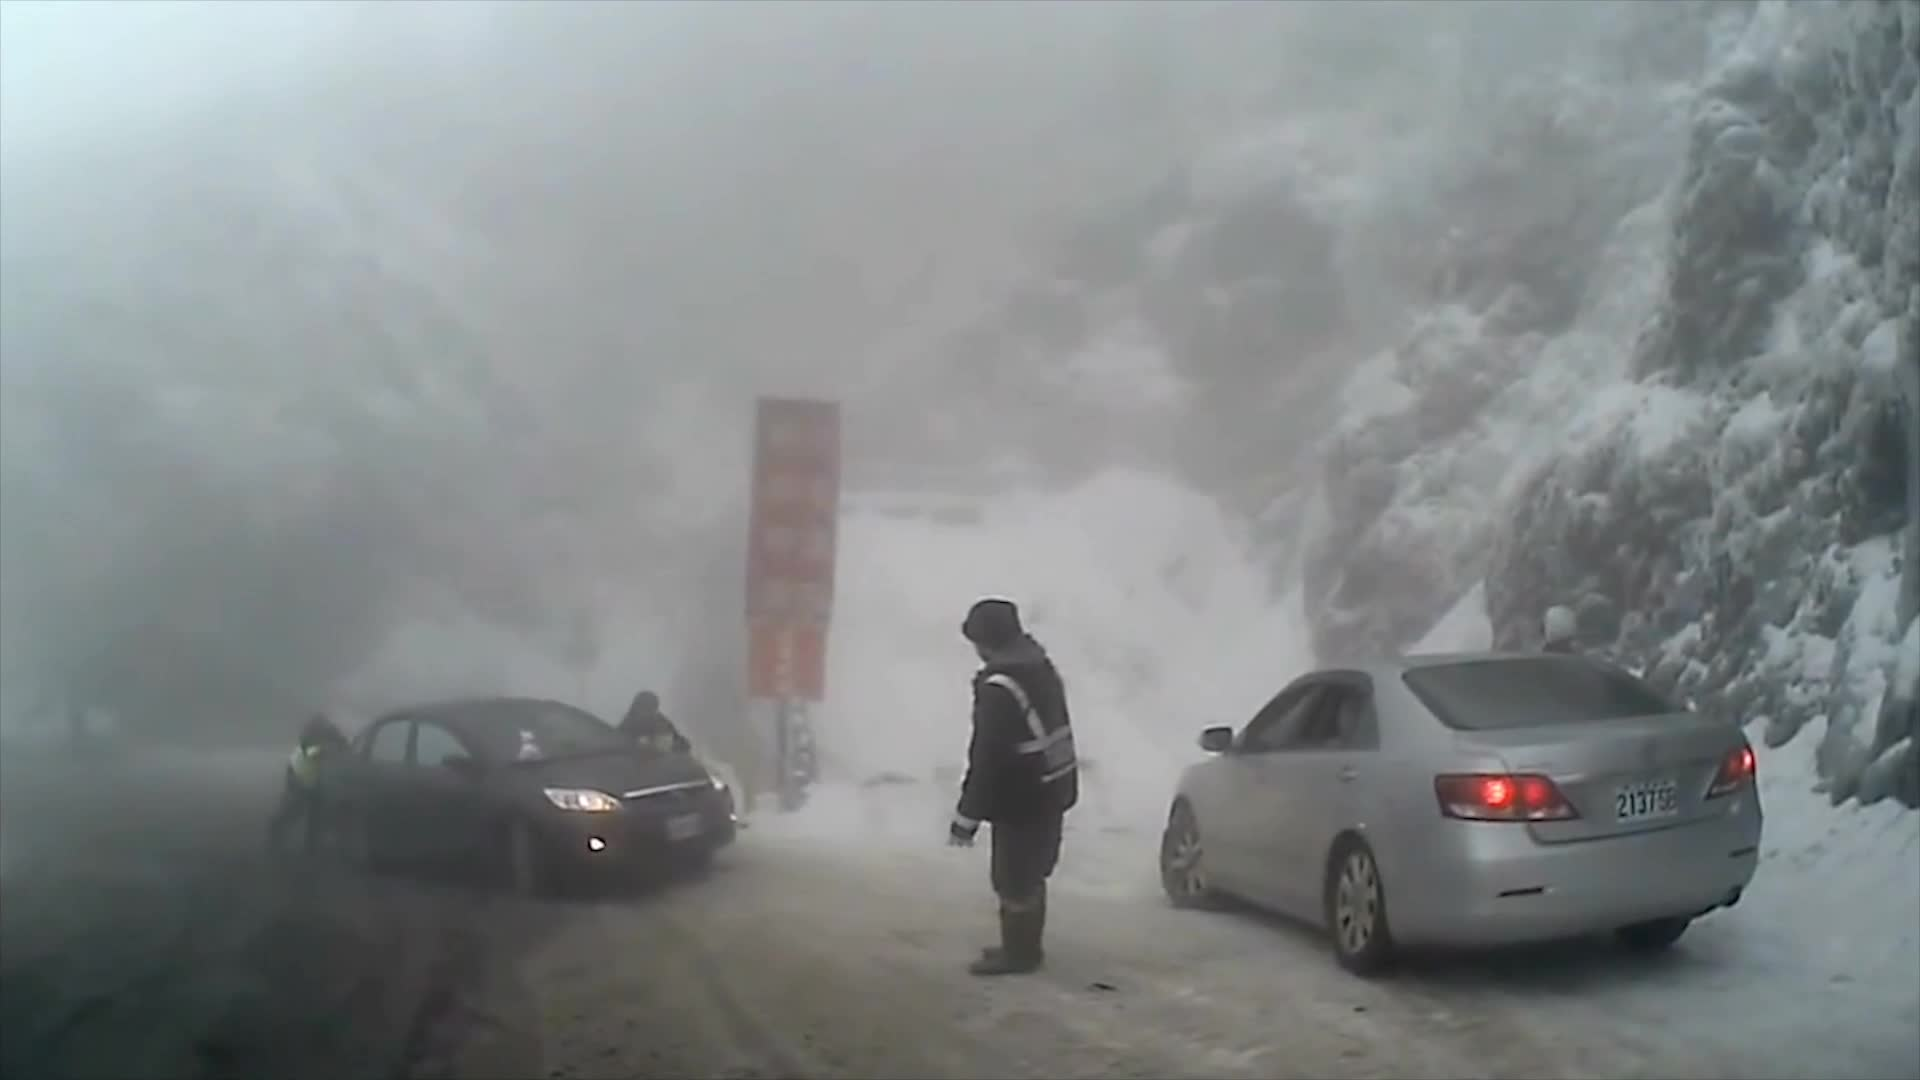pedestrian: (942, 599, 1082, 975), (1526, 593, 1616, 841), (263, 719, 347, 853), (617, 689, 694, 818)
vehicle: (1156, 645, 1762, 973), (309, 693, 736, 903)
